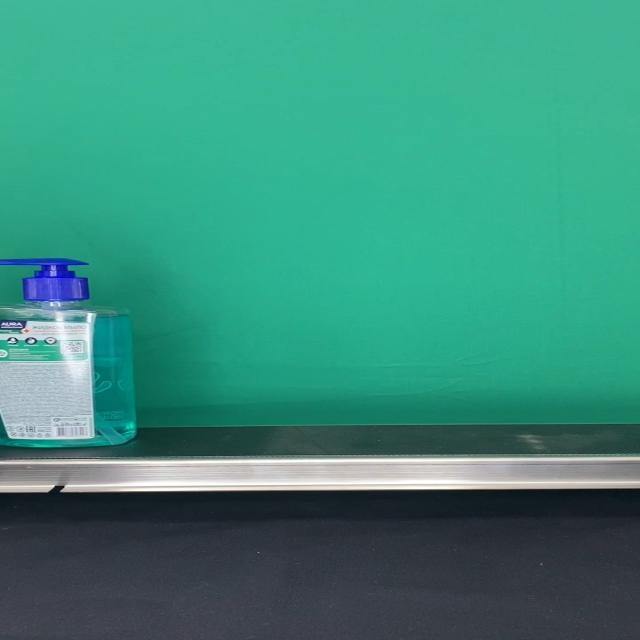Bottle: (0, 258, 137, 448)
Cap: (0, 258, 88, 301)
